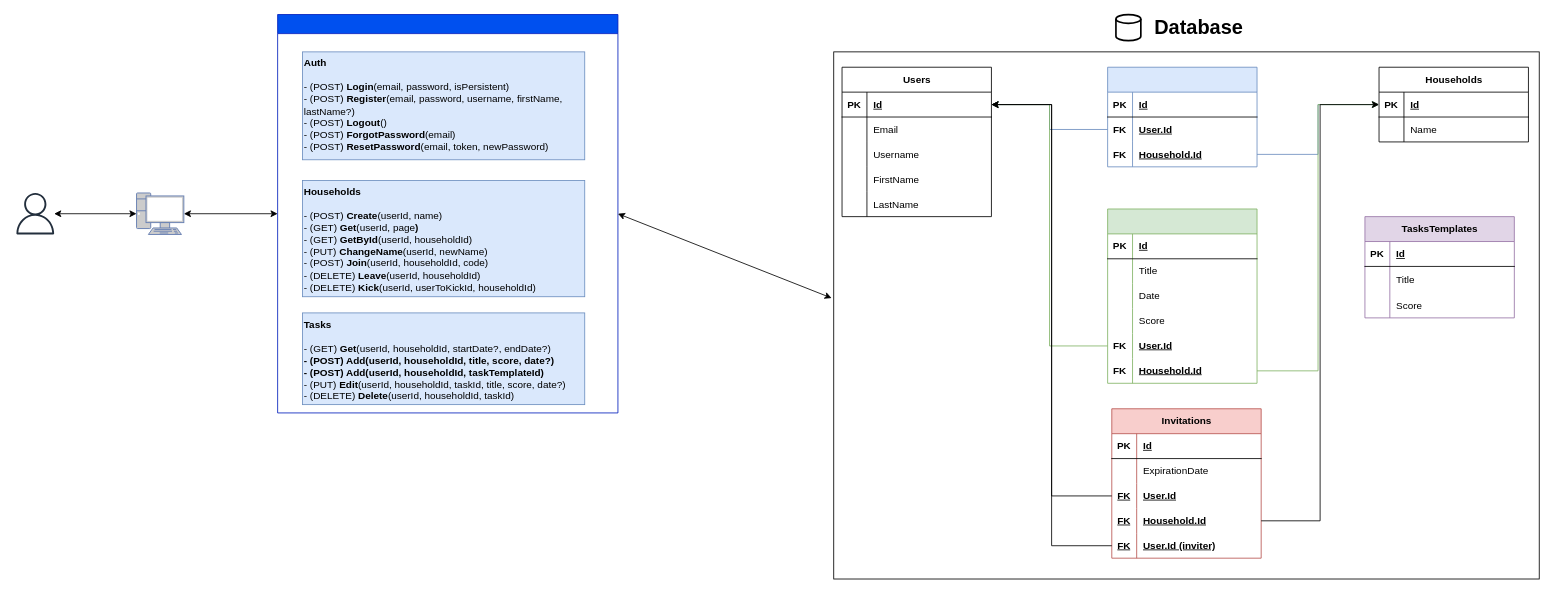
Some shapes in this 1554 by 594 pixel diagram are drawn without their labels. Here are the shapes that lost their labels. From the top down, the box of each, then its label:
(1107, 66, 1257, 167): UsersAndHouseholds
(277, 14, 618, 413): REST API
(1107, 208, 1257, 383): Tasks
